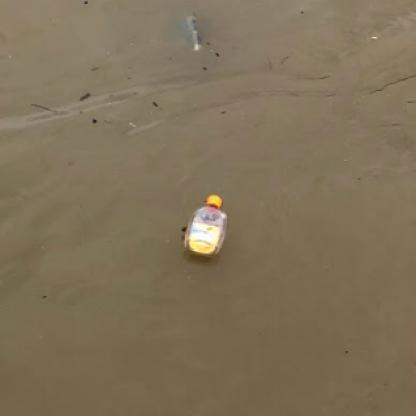plastic bottle: (183, 194, 227, 258)
